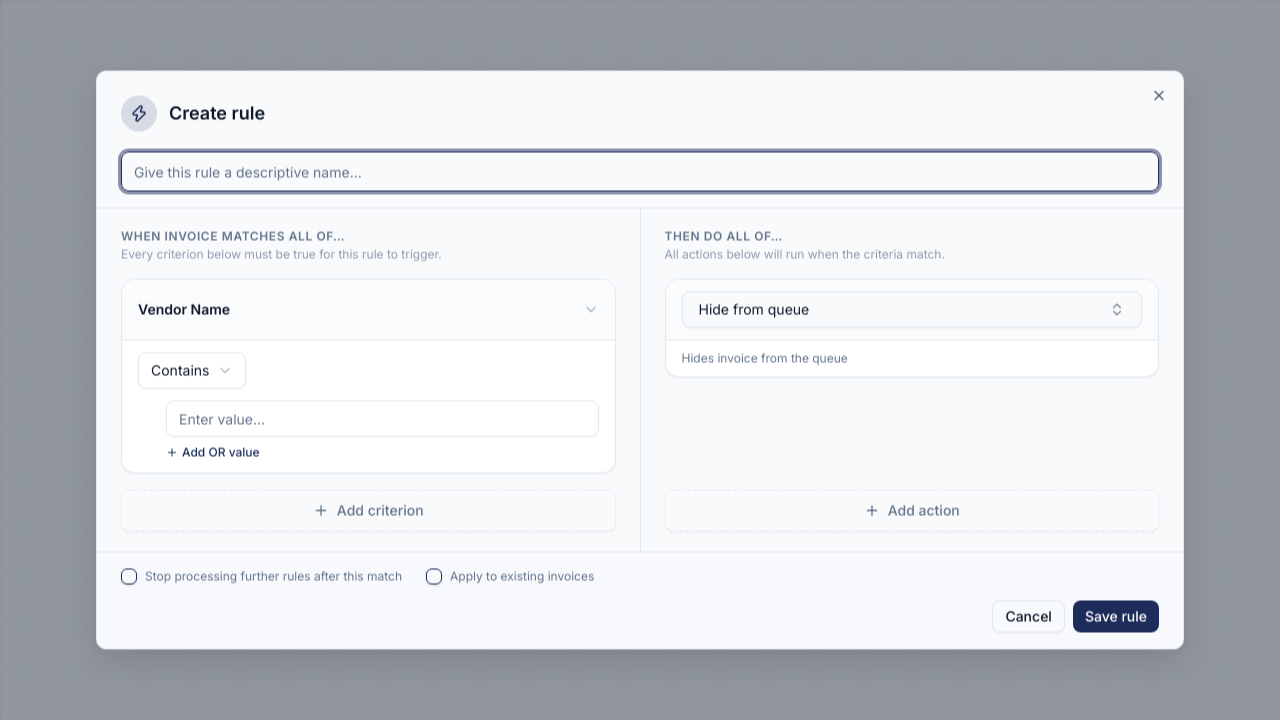
Test: RuleEditor › creates and applies a new rule with one atomic request and no follow-up apply
In the field with placeholder "Give this rule a descriptive name…": (640, 172) [121, 152, 1159, 192], type "ACME rule"
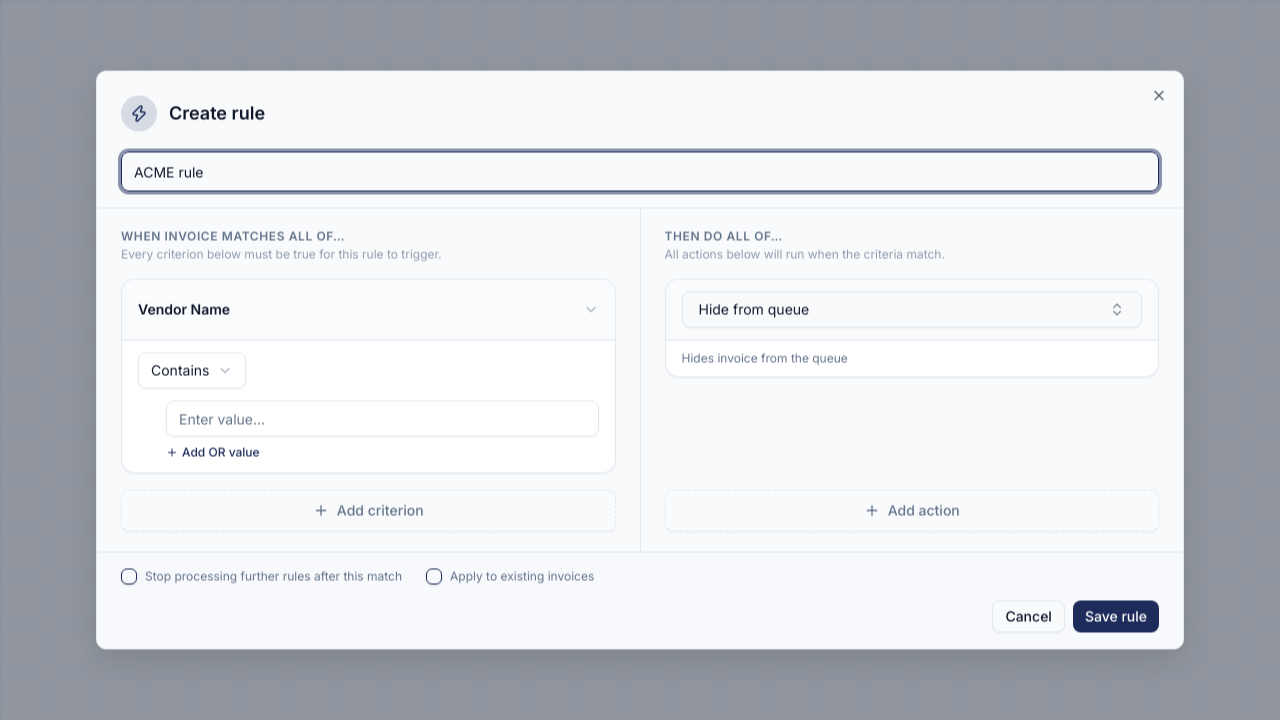
In the field with placeholder "Enter value…": (382, 418) [166, 400, 598, 436], type "ACME"
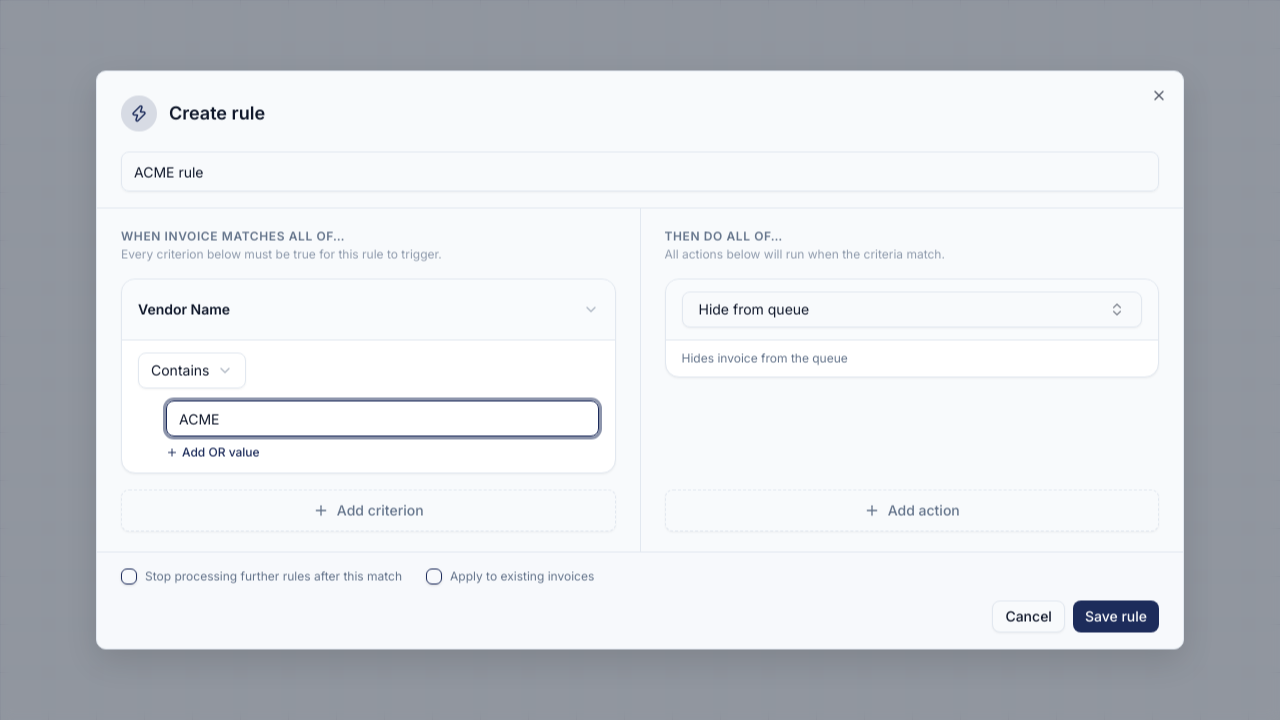
Click the checkbox named "Apply to existing invoices" next to "Apply to existing invoices": (434, 576) [426, 568, 442, 584]
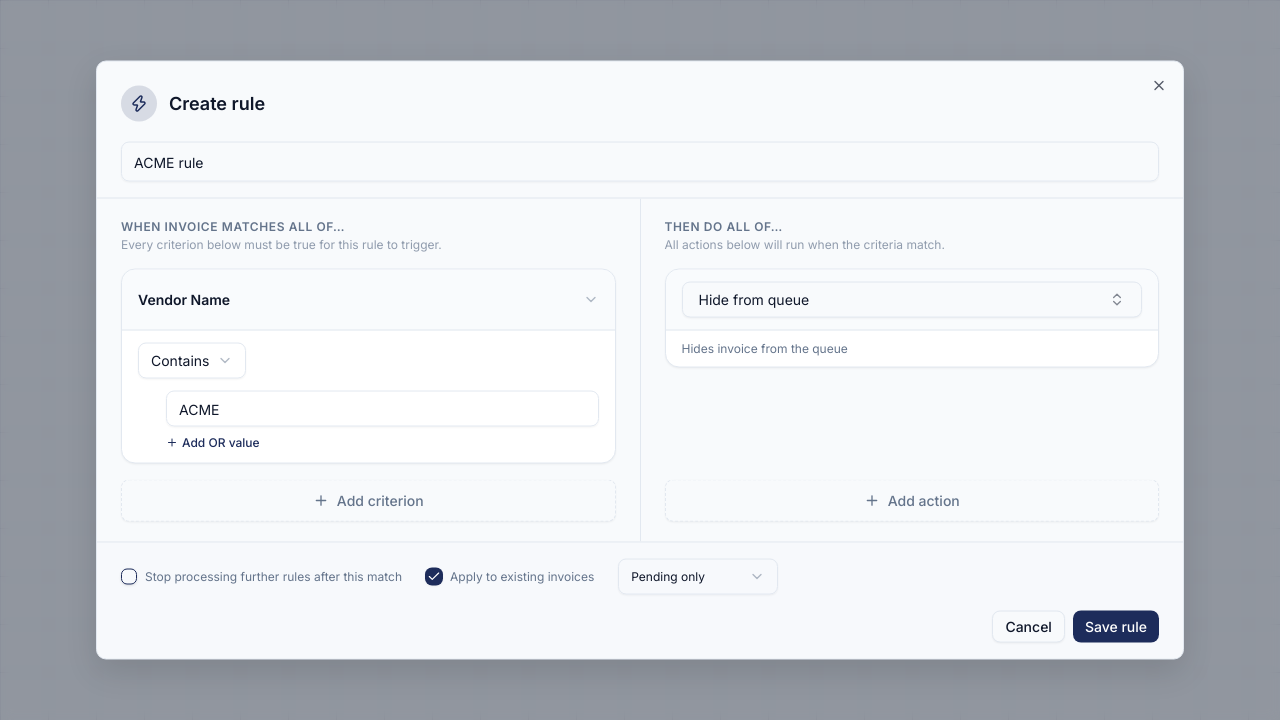
Click the button "Save rule": (1116, 626) [1073, 610, 1159, 642]
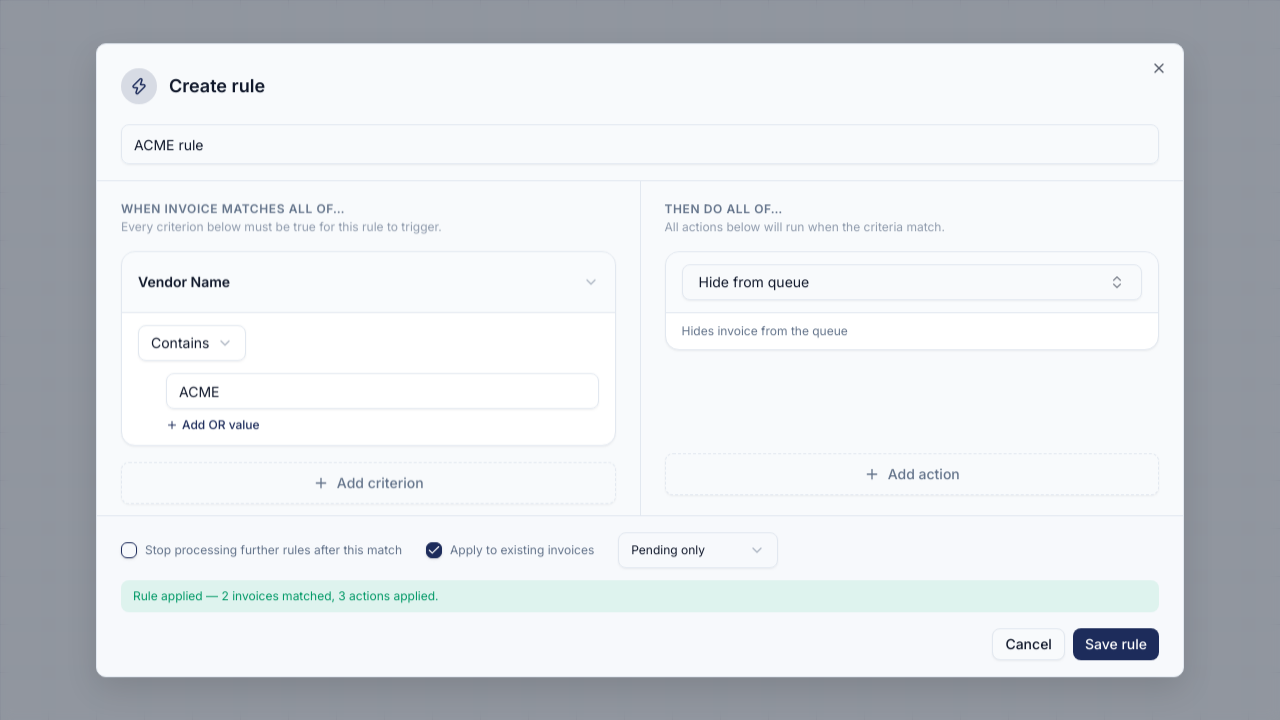
Check: the text "Rule applied — 2 invoices matched, 3 actions applied." is shown, box [121, 580, 1159, 612]
